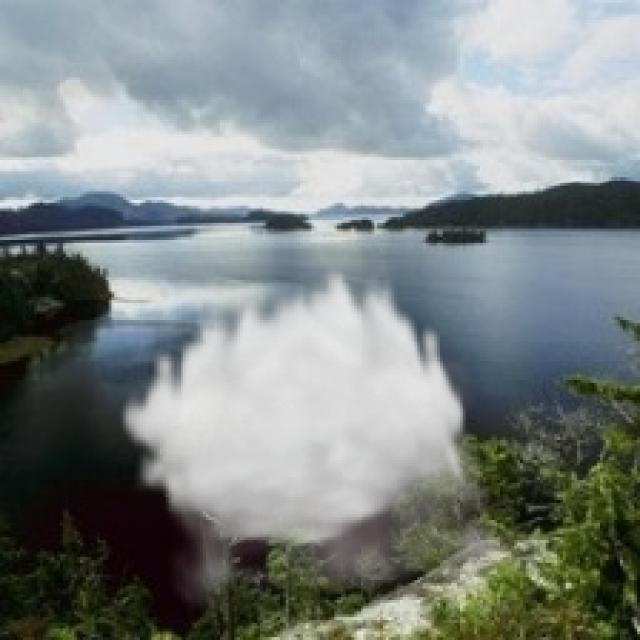Smoke: (117, 260, 543, 617)
